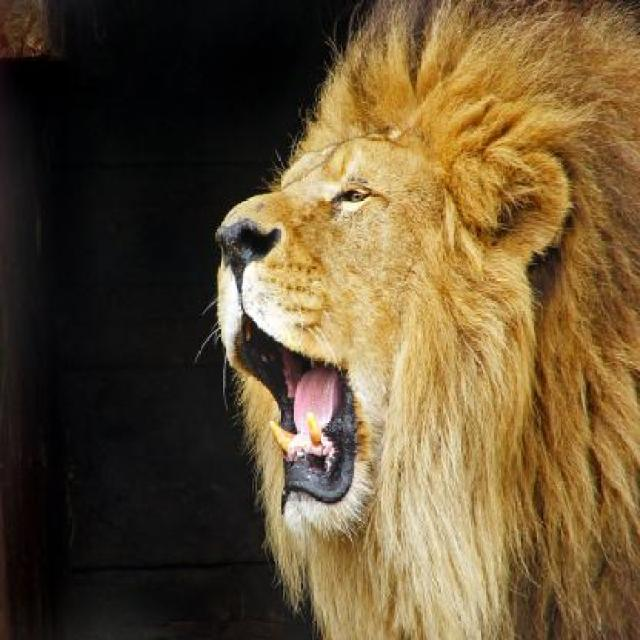Lion: (161, 19, 634, 638)
